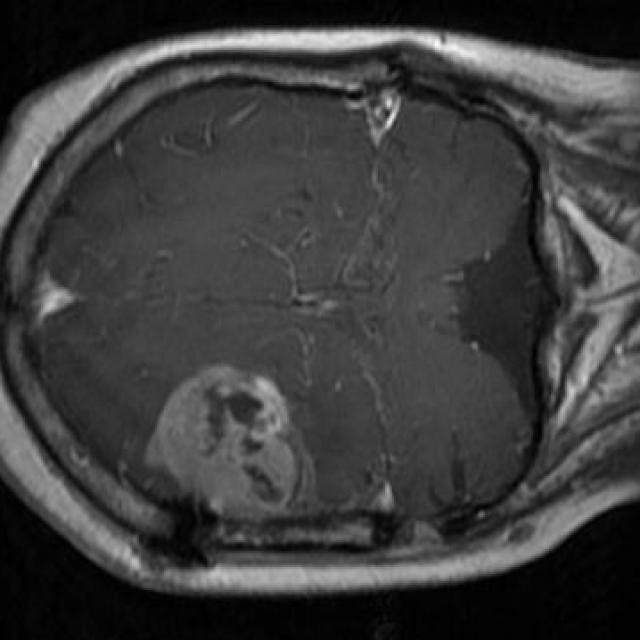glioma: (144, 365, 324, 517)
